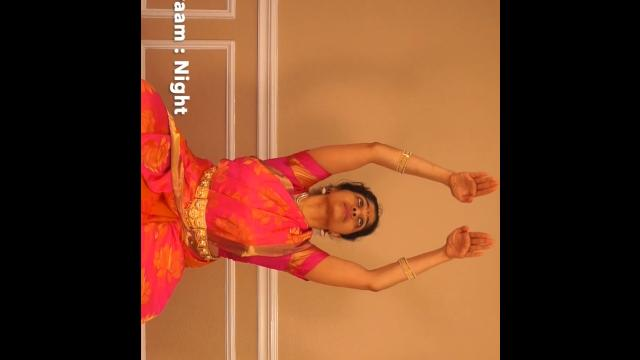pataka: (432, 219, 496, 270), (438, 160, 498, 212)
